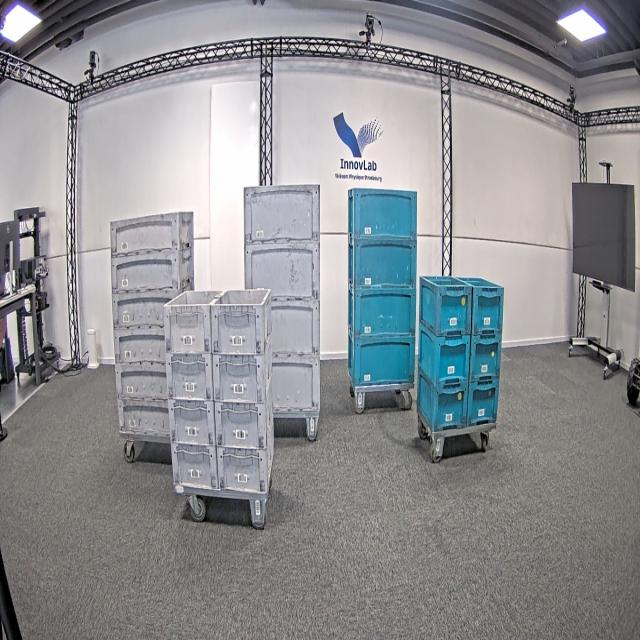Box3G: (108, 213, 194, 256), (110, 251, 194, 294), (112, 292, 179, 331), (117, 400, 172, 438), (114, 362, 170, 399), (112, 328, 168, 364)
Box4G: (244, 241, 321, 302), (244, 184, 322, 244), (268, 358, 323, 413), (270, 301, 322, 356)
Box8G: (212, 291, 272, 355), (164, 294, 212, 355), (217, 446, 273, 494), (214, 353, 268, 402), (215, 402, 270, 450), (165, 352, 213, 401), (170, 443, 218, 489), (169, 400, 215, 447)
BoxB4: (348, 186, 418, 242), (348, 238, 418, 292), (349, 289, 418, 343), (348, 337, 417, 388)
BoxB8: (414, 369, 469, 433), (419, 275, 473, 338), (418, 326, 472, 388), (464, 277, 506, 336), (469, 336, 504, 384), (469, 378, 501, 426)
